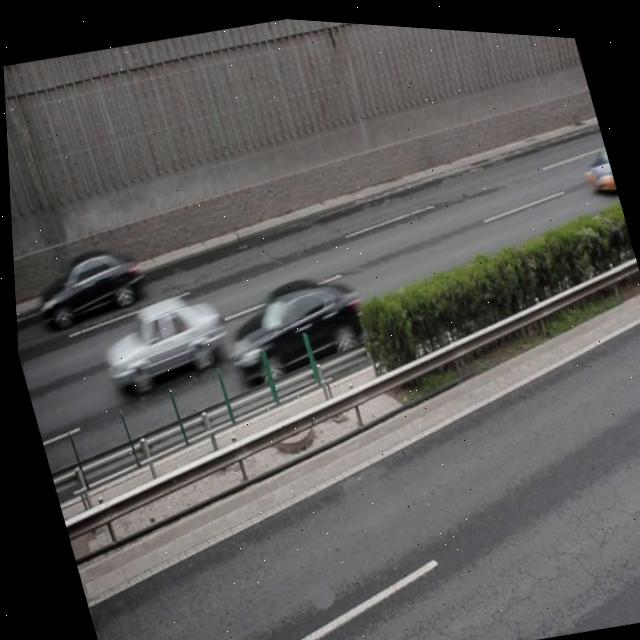car: (211, 262, 374, 391), (86, 282, 230, 399), (26, 237, 149, 334), (575, 137, 615, 187)
